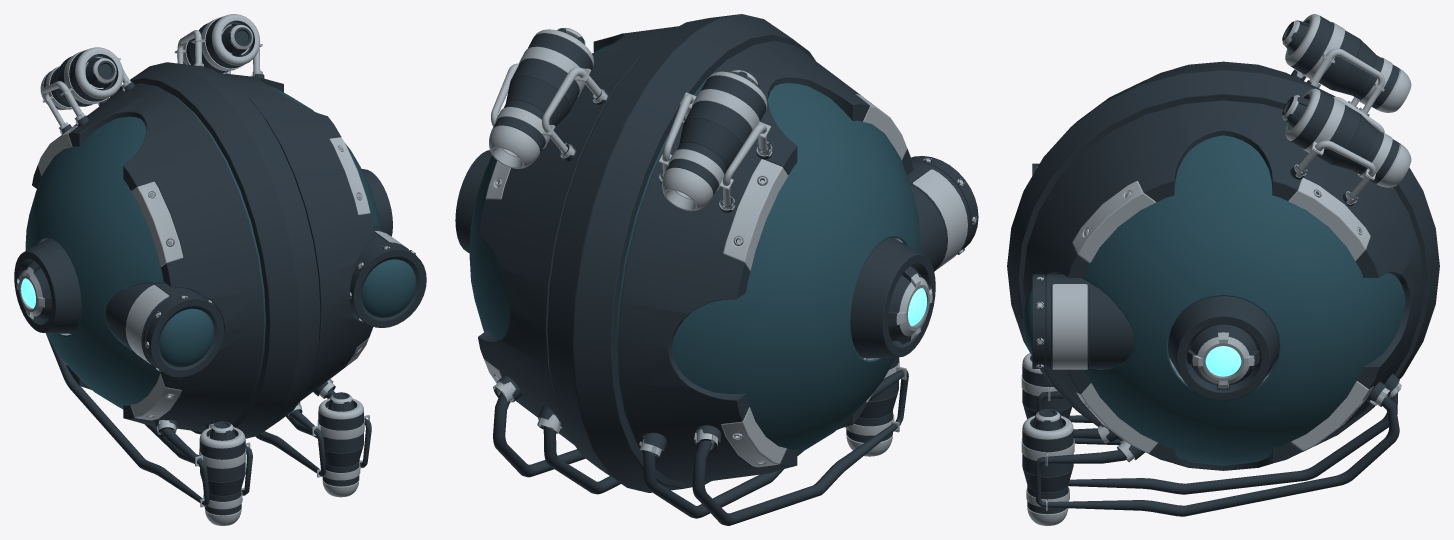
Rendered from bs_drone_ball.fbx.
3 views of the same model, side by side, from view 1: azimuth 30°, elevation 25°; view 2: azimuth 150°, elevation 25°; view 3: azimuth 270°, elevation 25° (orthographic). The views are drawn at different scales.
Parts seen in each view (by area): view 1: bs_drone_ball; view 2: bs_drone_ball; view 3: bs_drone_ball.
Boxes of the visible parts, x1,y1,x2,y2 form: bs_drone_ball: [14, 14, 426, 525]; bs_drone_ball: [455, 14, 978, 525]; bs_drone_ball: [1007, 14, 1439, 525].
Bounding box in the file's own units: 106 × 114 × 117.
